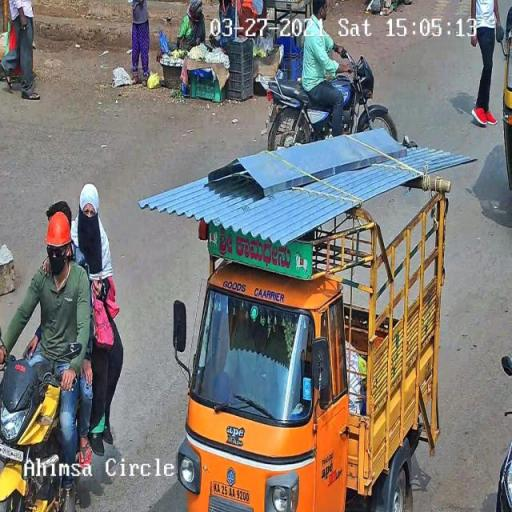tripple riding: (12, 179, 128, 382)
